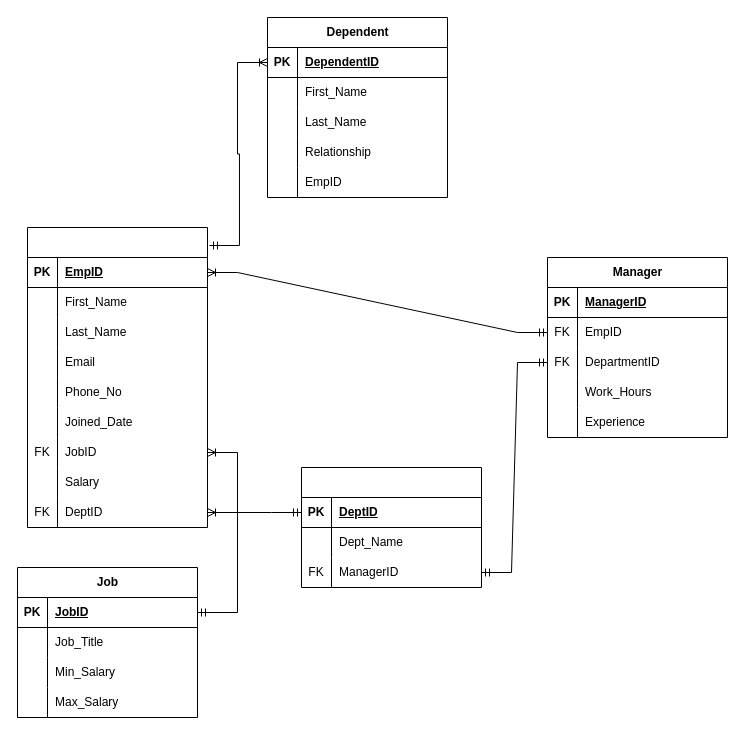
Image size: 745x735. Some labels were removed from this diagram. The shapes that lost their labels are listed below. From the top down, each one's box as (x1, y1, x2, y2) in pixels, then its label:
(26, 226, 208, 528): Employee
(300, 466, 482, 588): Department
